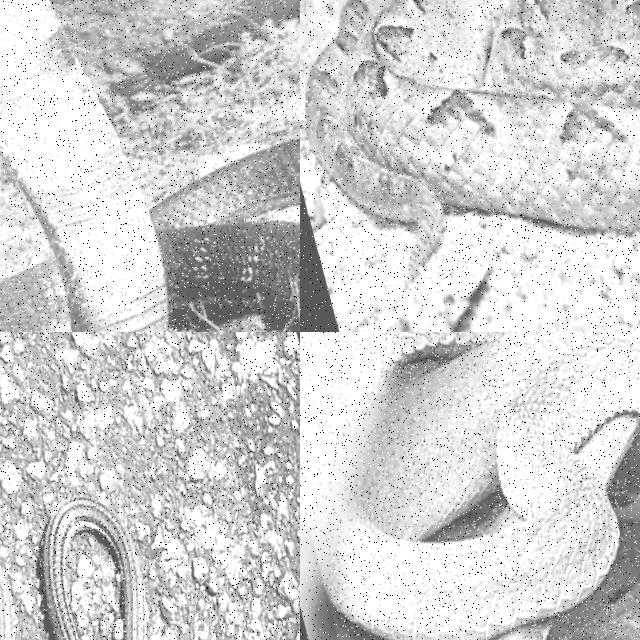Calliophis intestinalis: (42, 498, 145, 639)
Calloselasma rhodostoma: (305, 0, 639, 292)
Ophiophagus hannah: (0, 0, 299, 331)
Trimeresurus macrops: (322, 332, 639, 639)
